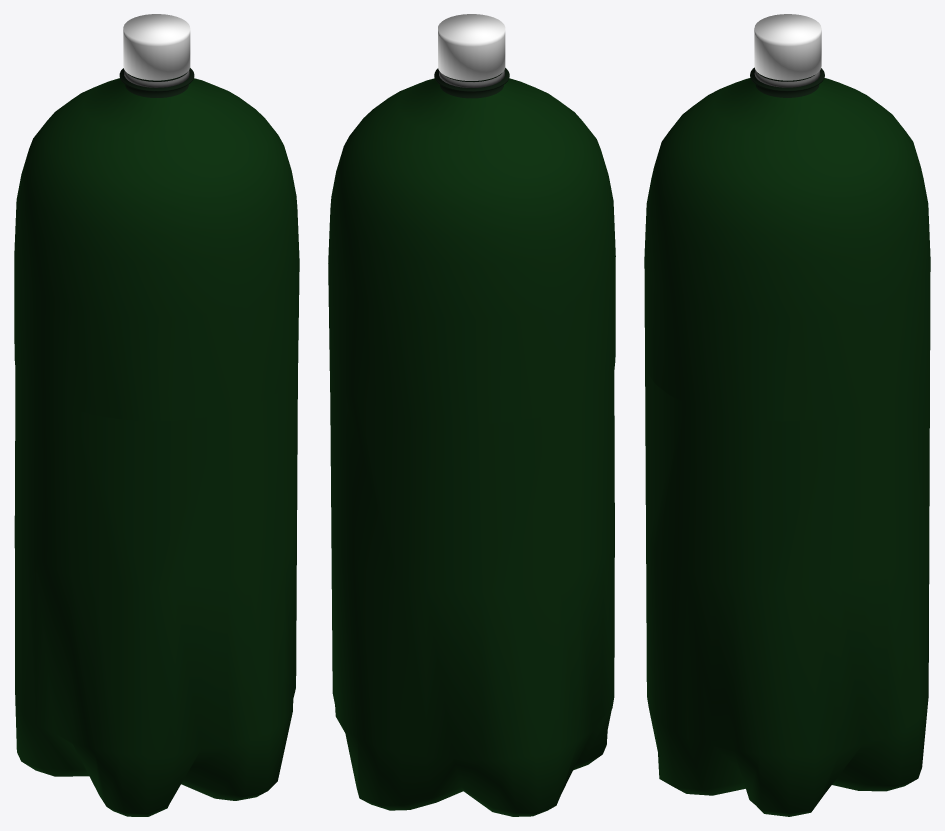
File: garrafa.obj
3 renders of one model, left to right at view 1: azimuth 30°, elevation 25°; view 2: azimuth 150°, elevation 25°; view 3: azimuth 270°, elevation 25°, orthographic.
Parts seen in each view (by area): view 1: garrafa;bottle_Cylinder, tampa;cap_Cylinder.002; view 2: garrafa;bottle_Cylinder, tampa;cap_Cylinder.002; view 3: garrafa;bottle_Cylinder, tampa;cap_Cylinder.002.
Part boxes in pixels (left/top/right/bottom): garrafa;bottle_Cylinder: left=14, top=68, right=299, bottom=816; tampa;cap_Cylinder.002: left=123, top=14, right=190, bottom=80; garrafa;bottle_Cylinder: left=328, top=68, right=615, bottom=816; tampa;cap_Cylinder.002: left=438, top=14, right=505, bottom=80; garrafa;bottle_Cylinder: left=644, top=67, right=930, bottom=816; tampa;cap_Cylinder.002: left=754, top=14, right=821, bottom=80.
Size of the model in its own units: 7.66 by 21.78 by 7.66.
